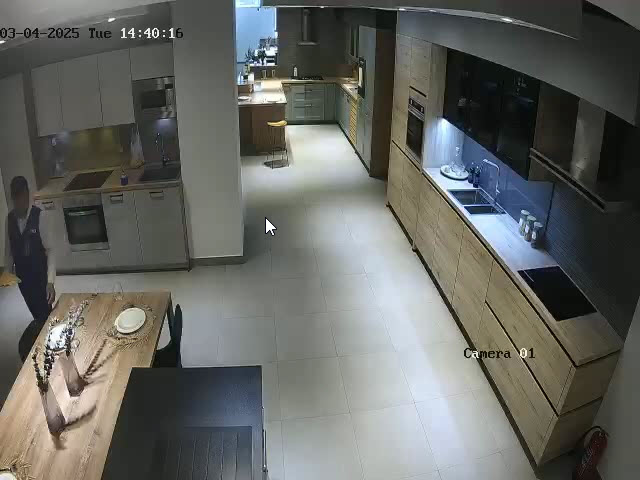employee: (6, 176, 53, 322)
